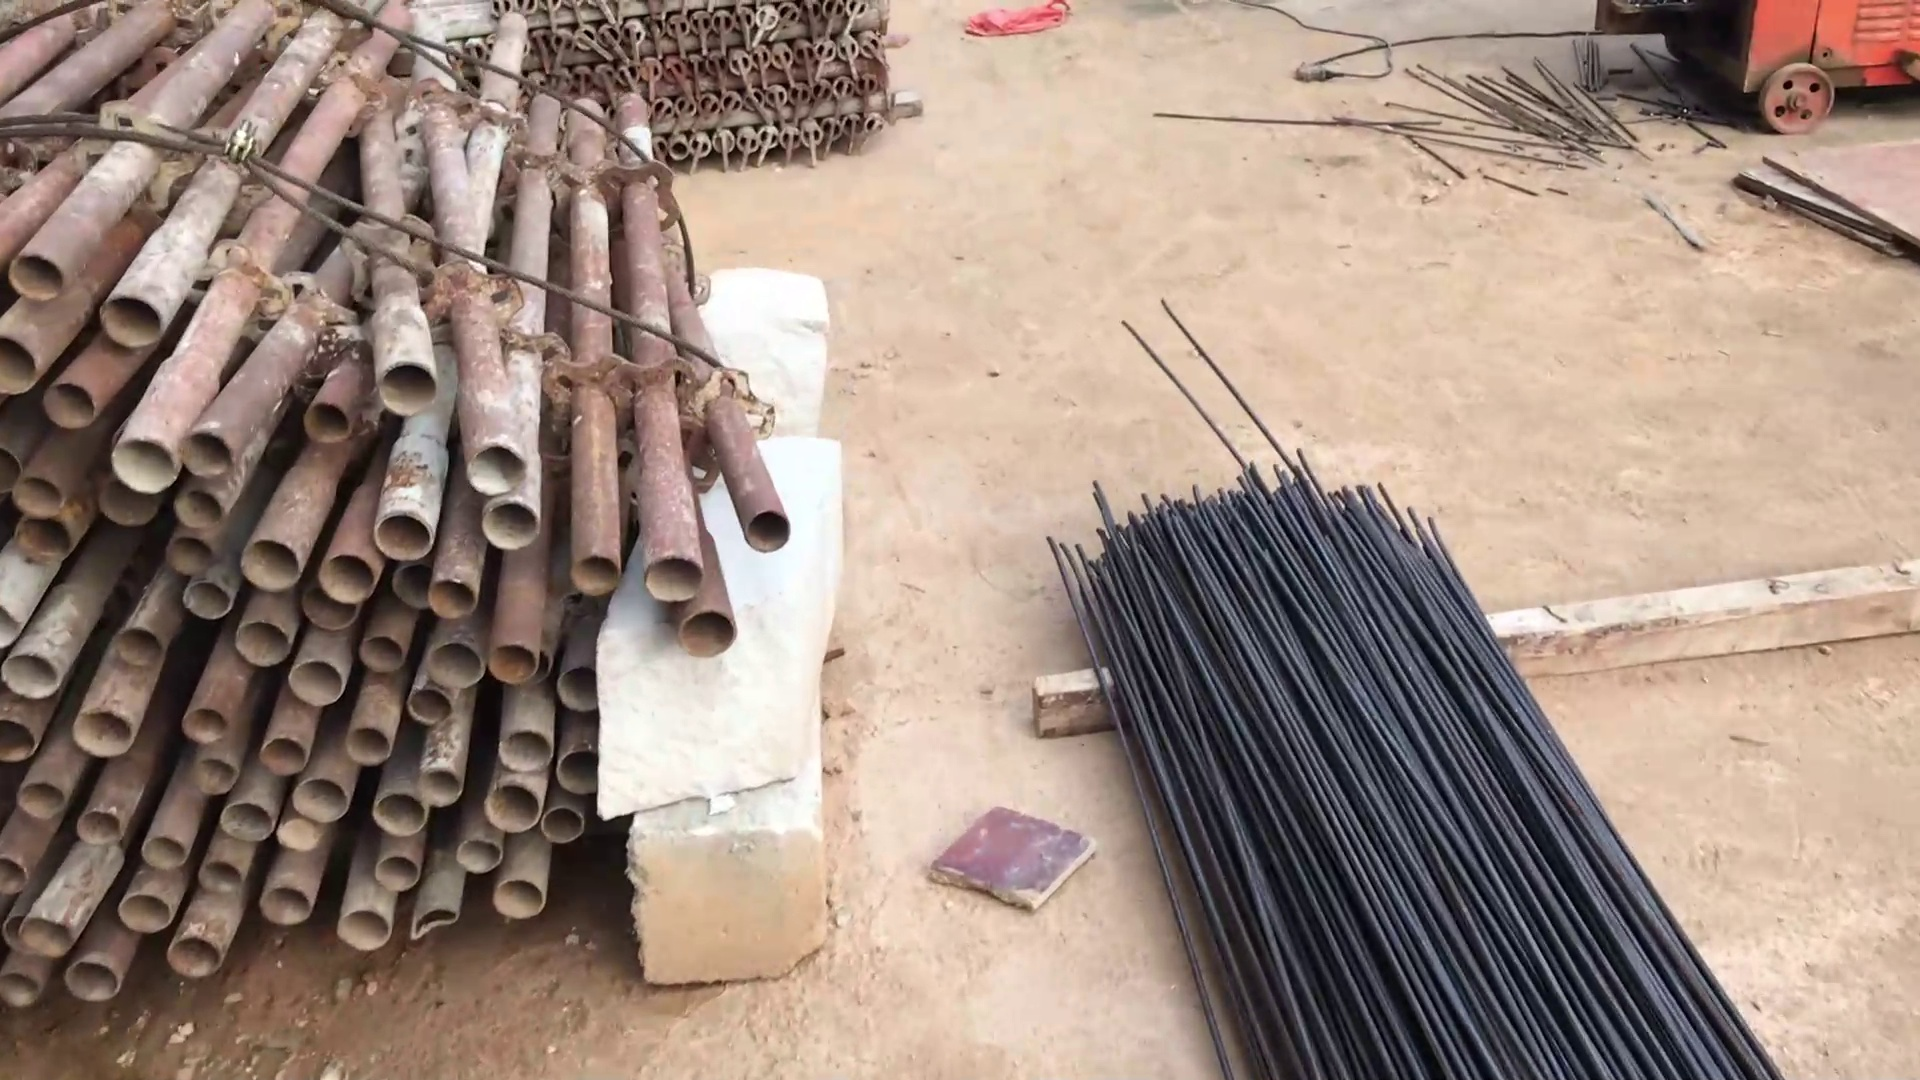rebar: (1034, 447, 1775, 1080)
scaffold: (1, 3, 810, 1017), (479, 1, 893, 175)
